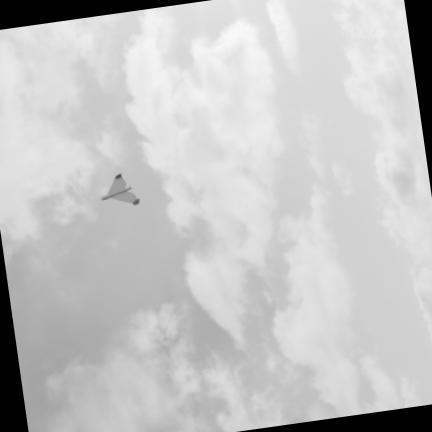Shahed: (101, 172, 138, 204)
